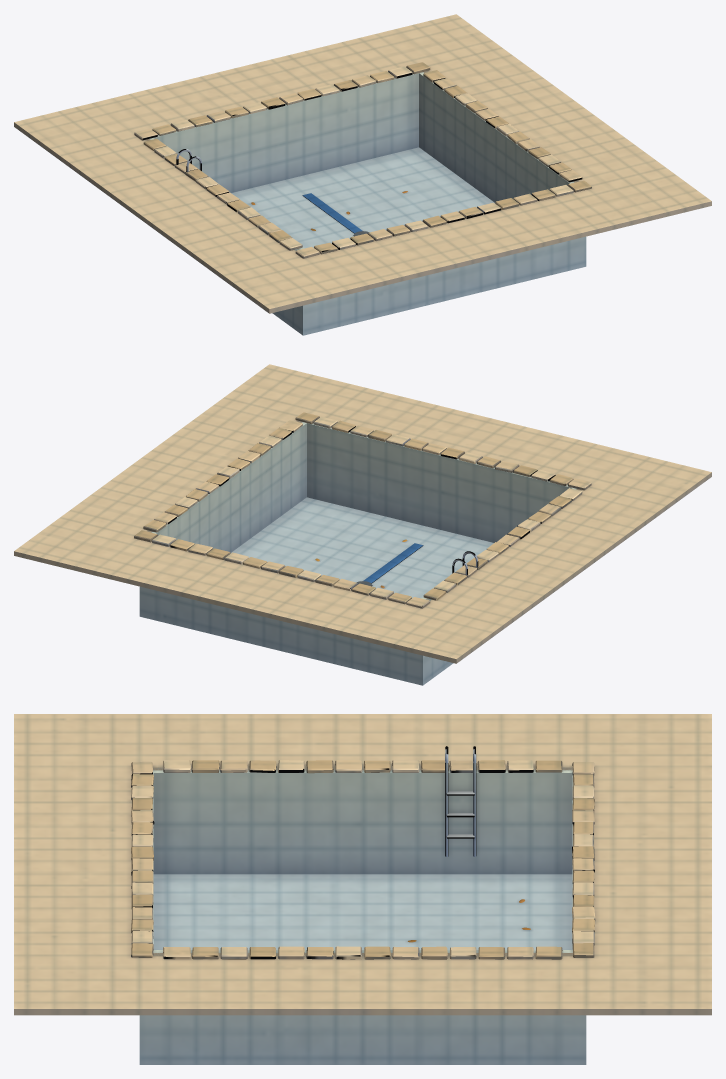
Rendered from Stage_Pool_Basin.glb.
The picture shows the model from 3 angles, top to bottom: view 1: azimuth 30°, elevation 25°; view 2: azimuth 150°, elevation 25°; view 3: azimuth 270°, elevation 25°; orthographic projection. The views are drawn at different scales.
Parts seen in each view (by area): view 1: Stage_Pool_Basin; view 2: Stage_Pool_Basin; view 3: Stage_Pool_Basin.
Part boxes in pixels (<box>): Stage_Pool_Basin: <box>14,14,711,335</box>; Stage_Pool_Basin: <box>14,364,711,685</box>; Stage_Pool_Basin: <box>14,714,711,1064</box>.
Bounding box in the file's own units: 50 × 10.37 × 50.
1 material, 1 textured.
